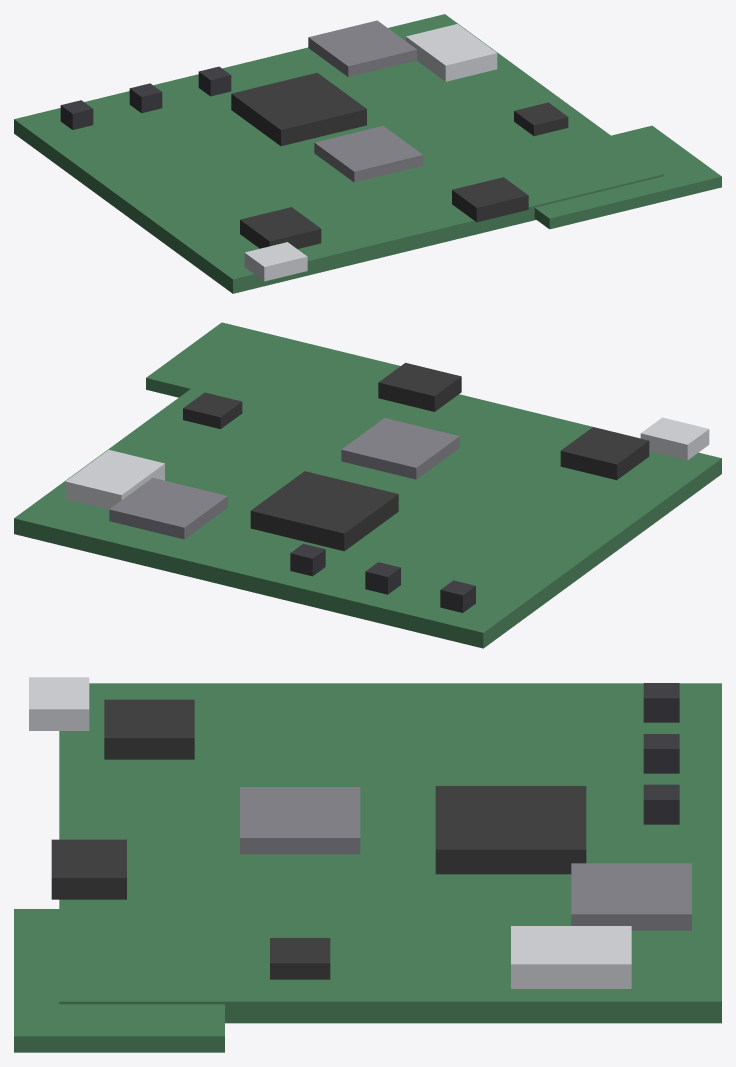
File: mainboard.gltf
3 views of the same model, one above another, from view 1: azimuth 30°, elevation 25°; view 2: azimuth 150°, elevation 25°; view 3: azimuth 270°, elevation 25° (orthographic). The views are drawn at different scales.
Parts seen in each view (by area): view 1: mainboard; view 2: mainboard; view 3: mainboard.
Boxes of the visible parts, x1,y1,x2,y2 form: mainboard: (14, 14, 721, 293); mainboard: (14, 322, 721, 648); mainboard: (14, 677, 721, 1052).
Size of the model in its own units: 0.275 by 0.019 by 0.235.
